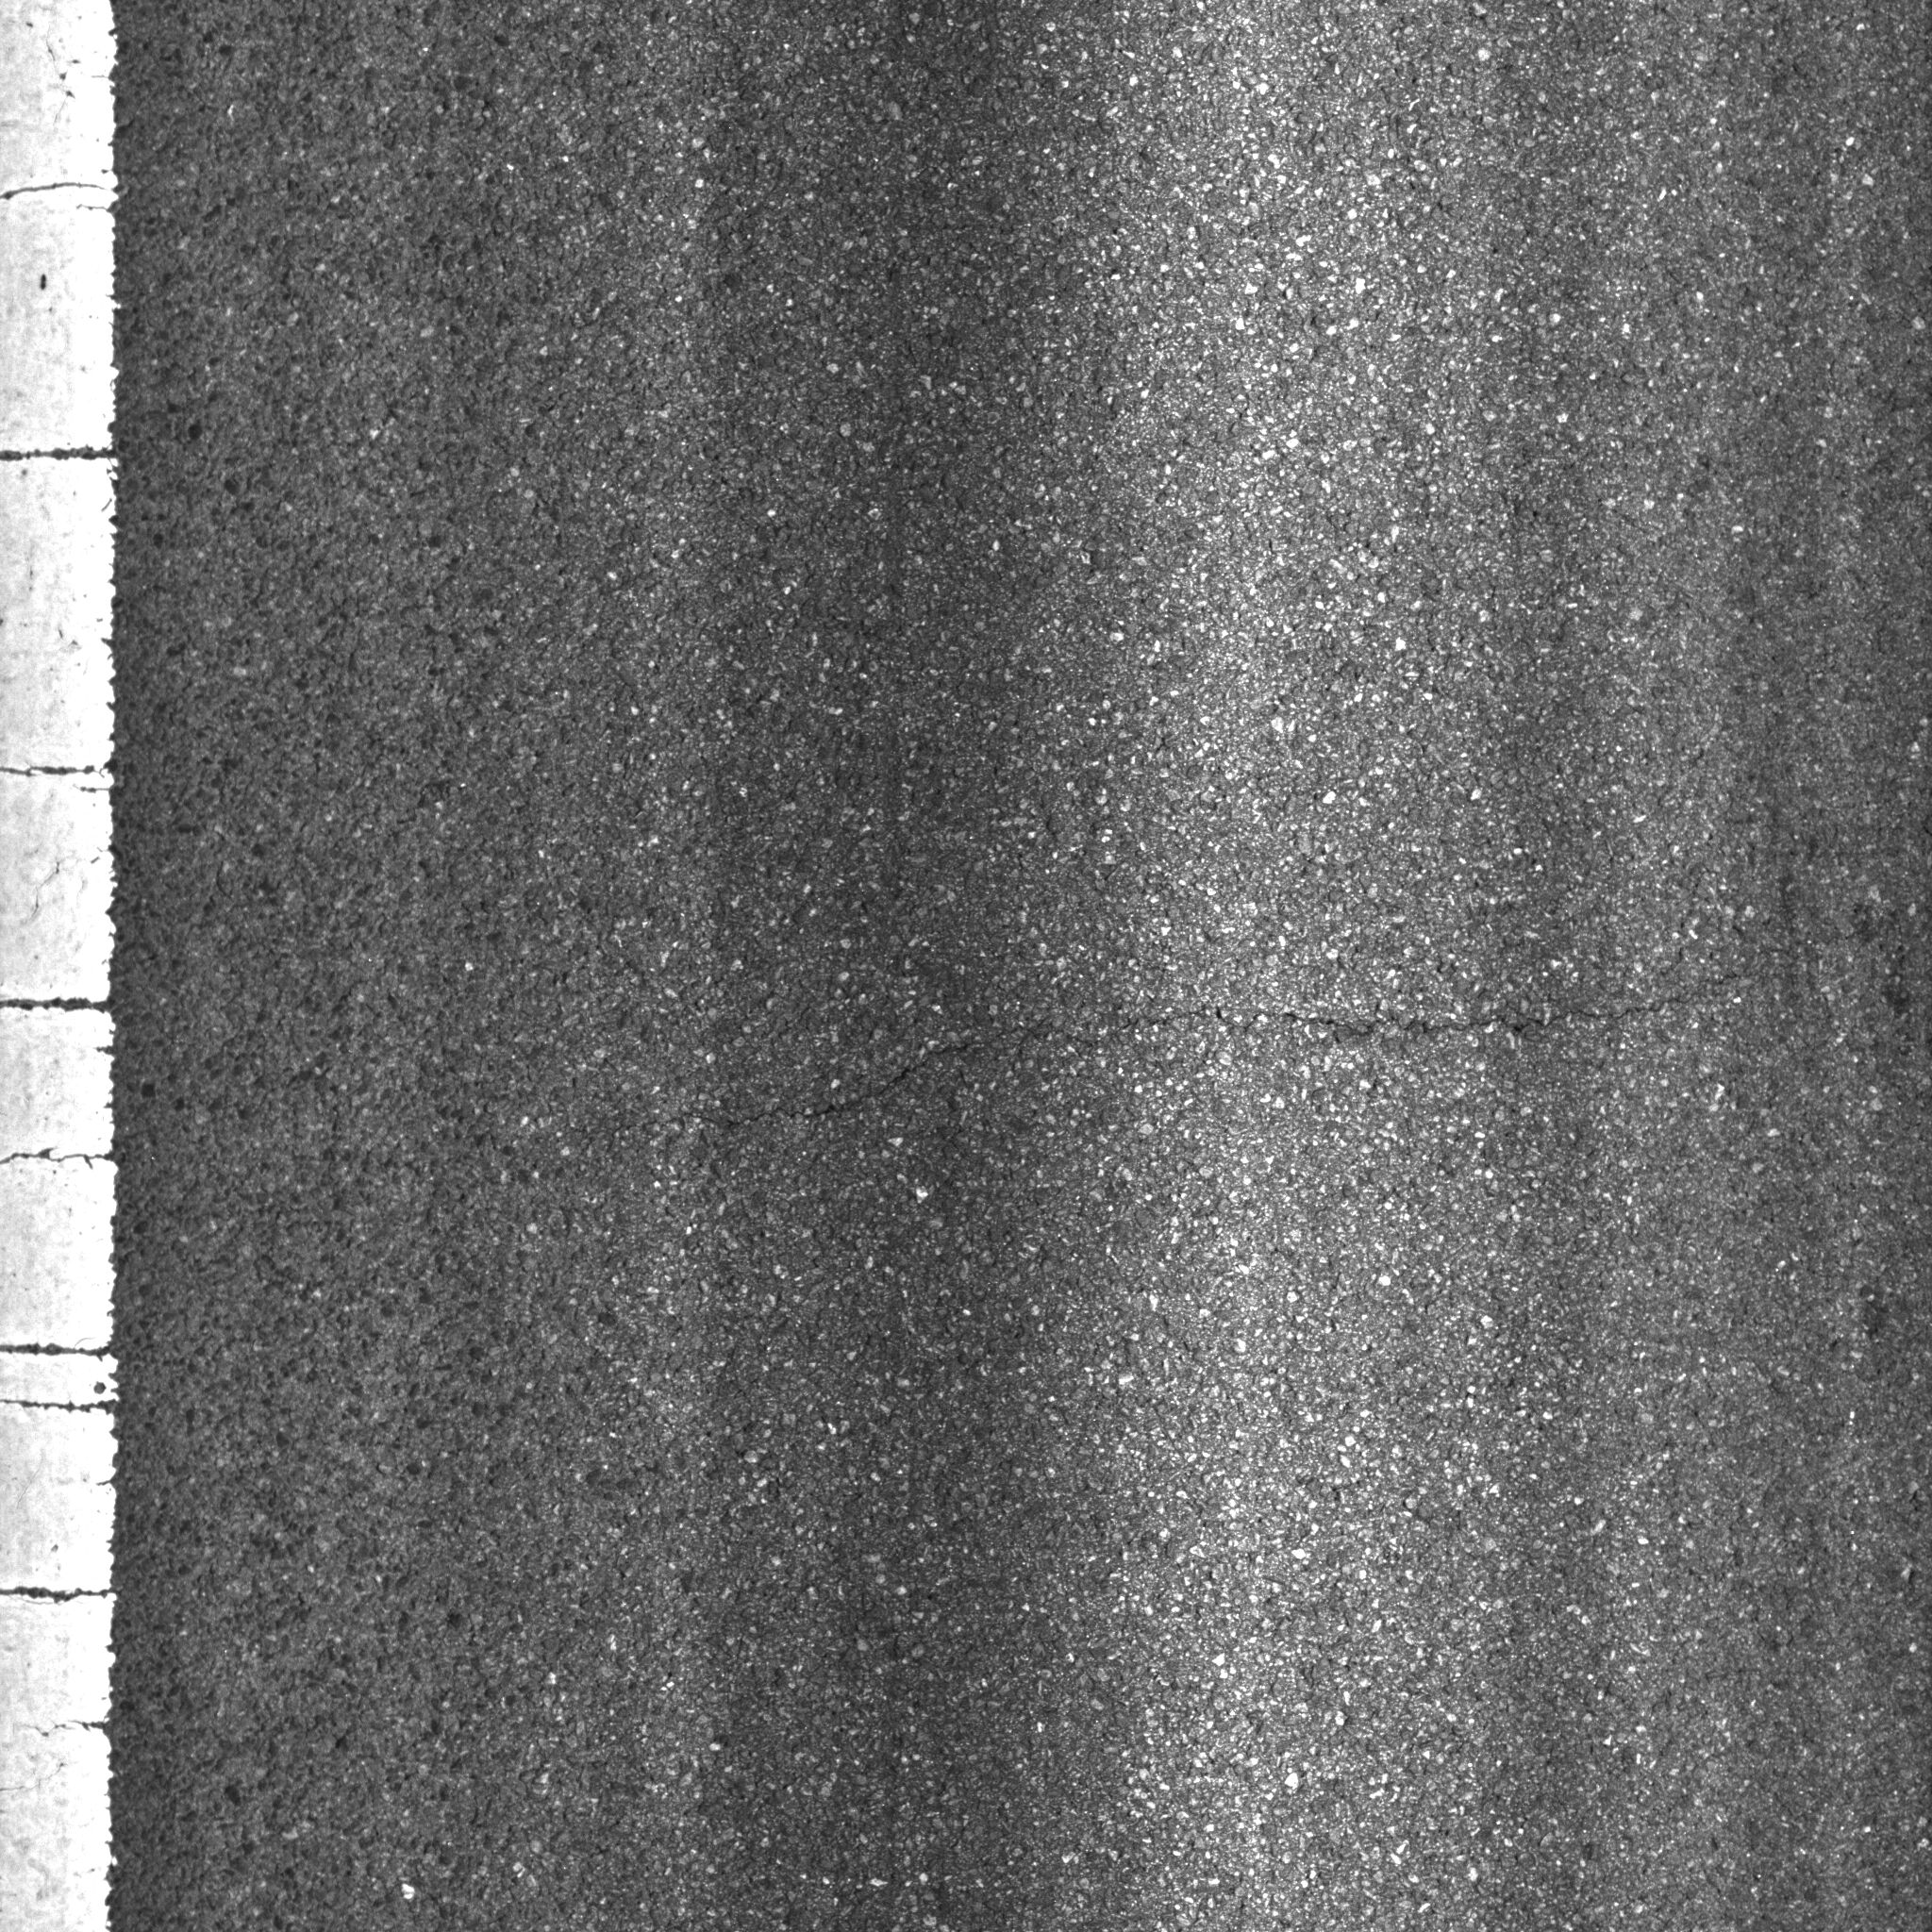transverse: (736, 973, 1773, 1132)
